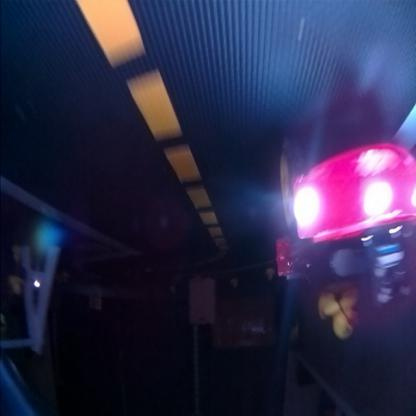Duckie: (317, 292, 361, 340)
Duckiebot: (274, 142, 415, 281)
